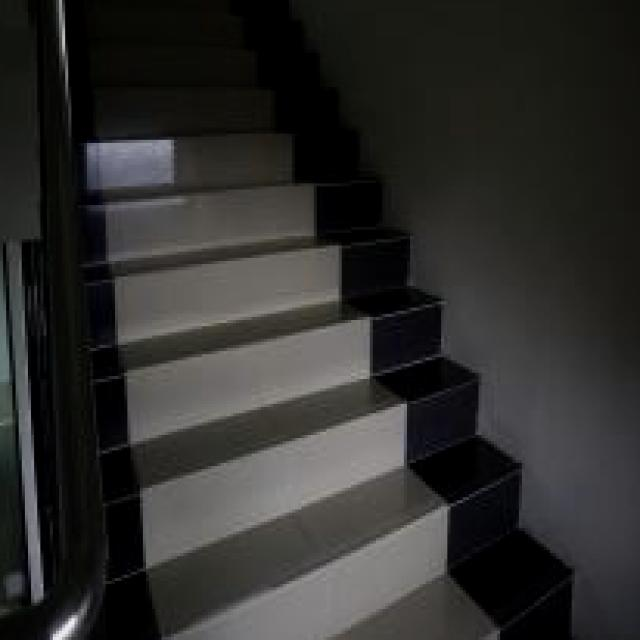upstair: (97, 72, 458, 517)
